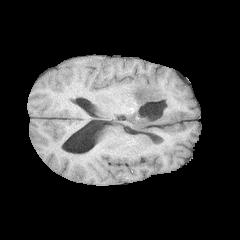glioma: (118, 77, 171, 131)
